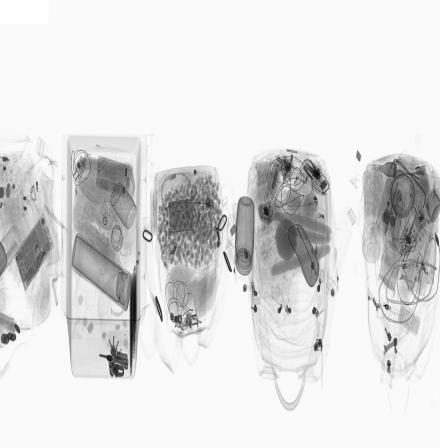Powerbank: (169, 199, 195, 236)
